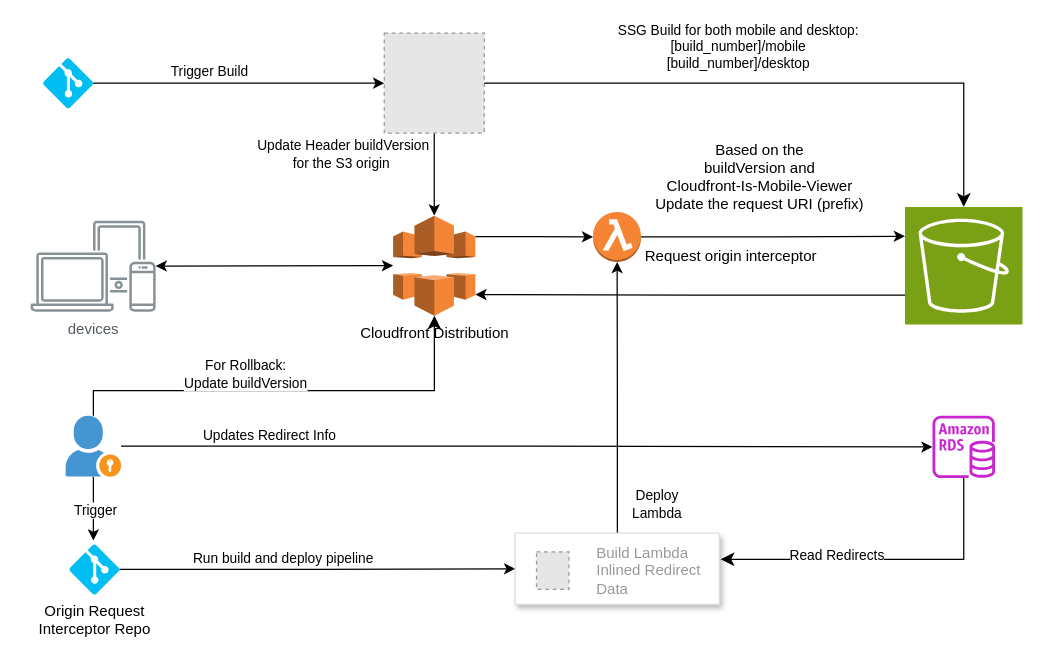
The diagram is 1045 pixels wide and 661 high, and some of its shapes have lost their labels. Grey dashed boxes stand in for pictures. The shapes that lost their labels are listed below. From the top down, each one's centre as x and y in pixels, then its label:
the point at 67,83: Website Repo
the point at 963,265: S3 Bucket
